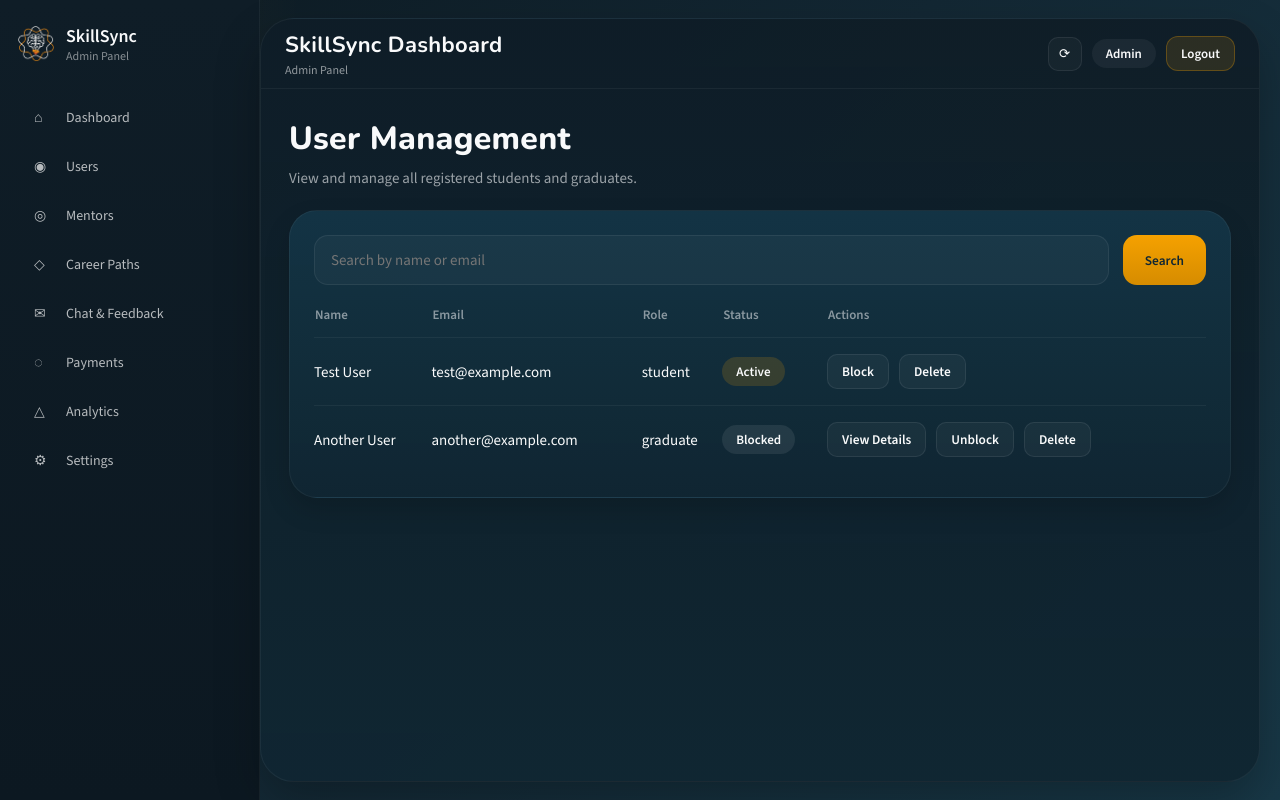
Test: User Management Page › search filters users correctly
Expected: the text "Test User" is shown, [314, 338, 431, 406]
Type "another" into the field with placeholder "Search by name or email" at (711, 260), box [314, 235, 1109, 285]
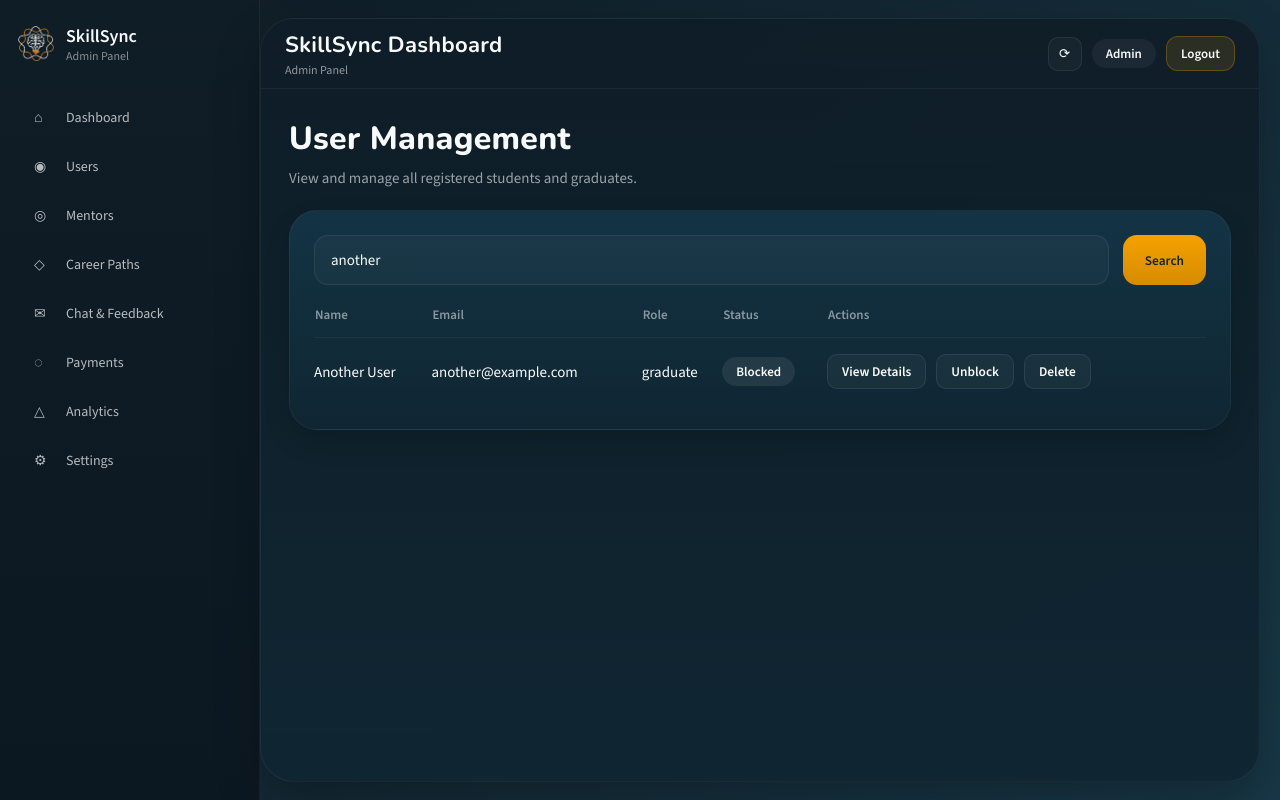
Expected: the text "Another User" is shown, [314, 338, 431, 405]
Expected: the text "Test User" is gone
